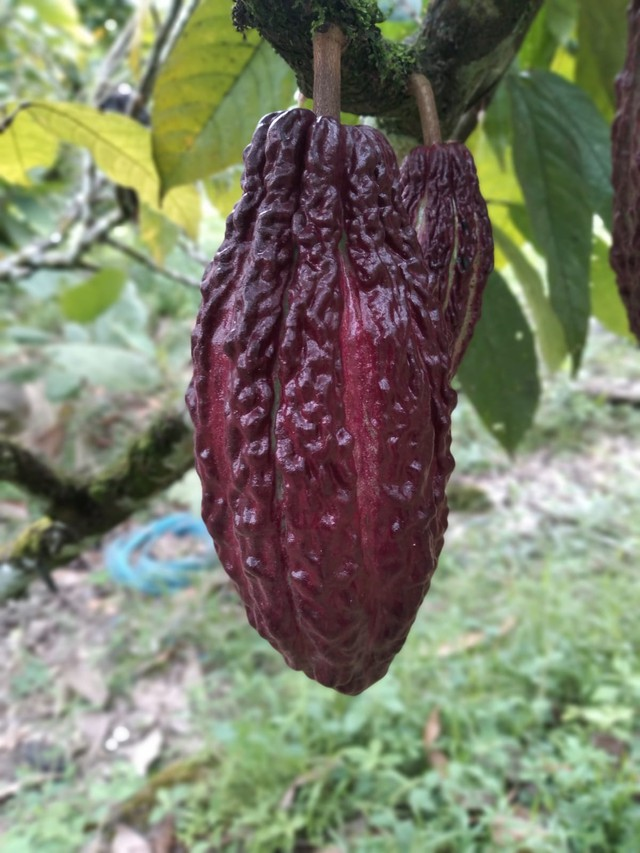Health: (172, 86, 486, 726)
